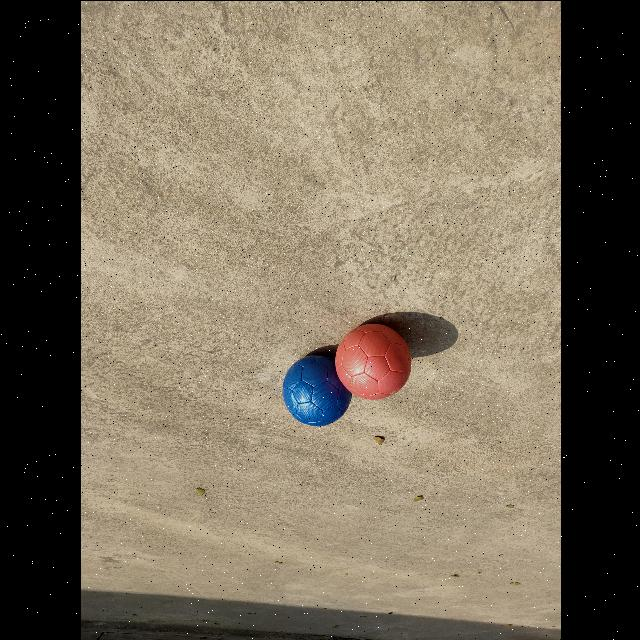B: (282, 354, 351, 425)
R: (334, 322, 411, 399)
